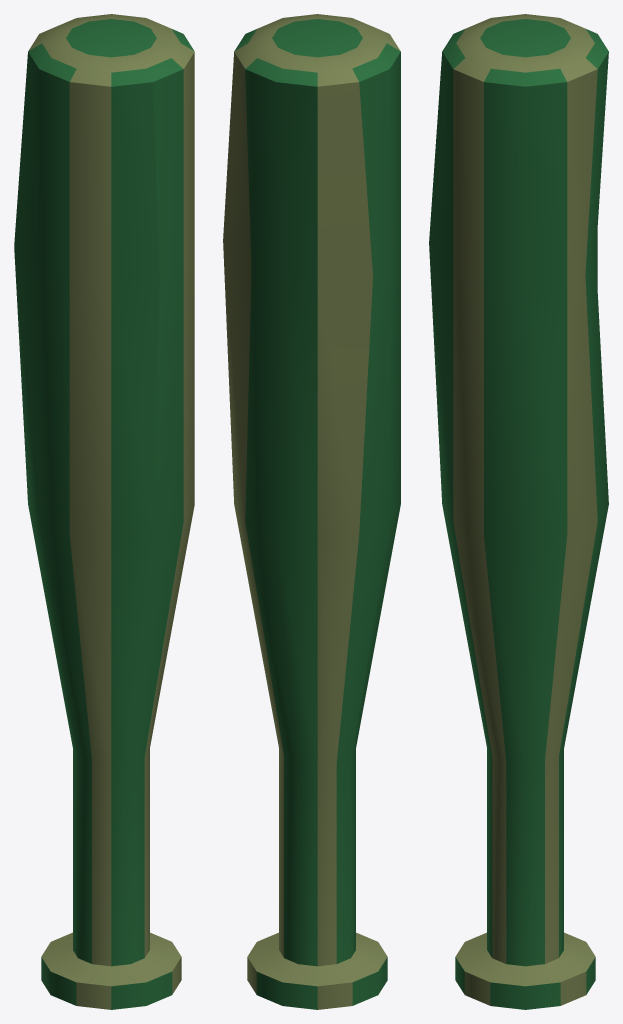
File: BAT.fbx
The picture shows the model from 3 angles, left to right: view 1: azimuth 30°, elevation 25°; view 2: azimuth 150°, elevation 25°; view 3: azimuth 270°, elevation 25°; orthographic projection.
Parts seen in each view (by area): view 1: Bat; view 2: Bat; view 3: Bat.
Boxes of the visible parts, x1,y1,x2,y2 form: Bat: [14, 14, 194, 1009]; Bat: [223, 14, 400, 1009]; Bat: [429, 14, 608, 1009].
Bounding box in the file's own units: 0.1454 × 0.88 × 0.151.
